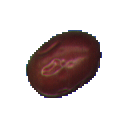gd: (23, 17, 103, 107)
